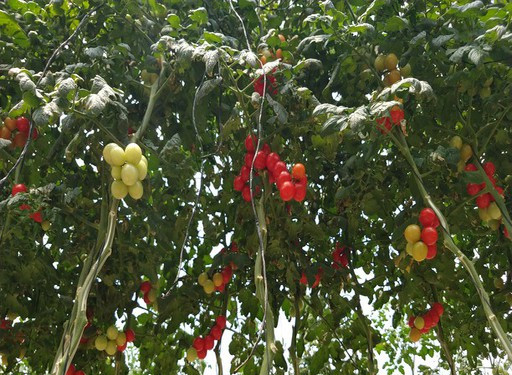green tomato bunch: (104, 142, 147, 199), (450, 65, 495, 99)
mixed tomato bunch: (450, 134, 506, 226), (373, 55, 405, 130), (198, 240, 242, 294), (405, 207, 443, 261), (96, 328, 135, 356), (139, 280, 160, 302)
red tomato bunch: (234, 135, 306, 201), (252, 32, 283, 96), (13, 184, 52, 229), (193, 315, 227, 358), (409, 303, 443, 340), (2, 116, 38, 145), (291, 267, 327, 289), (329, 244, 351, 272)
